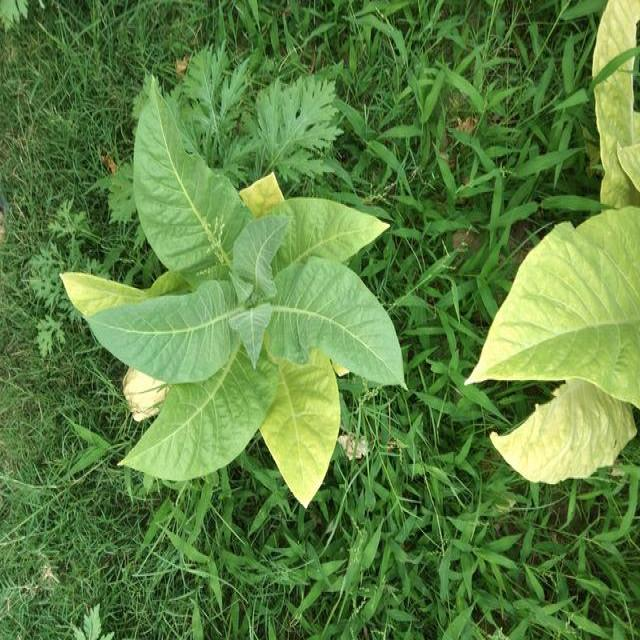crop: (63, 75, 410, 508)
